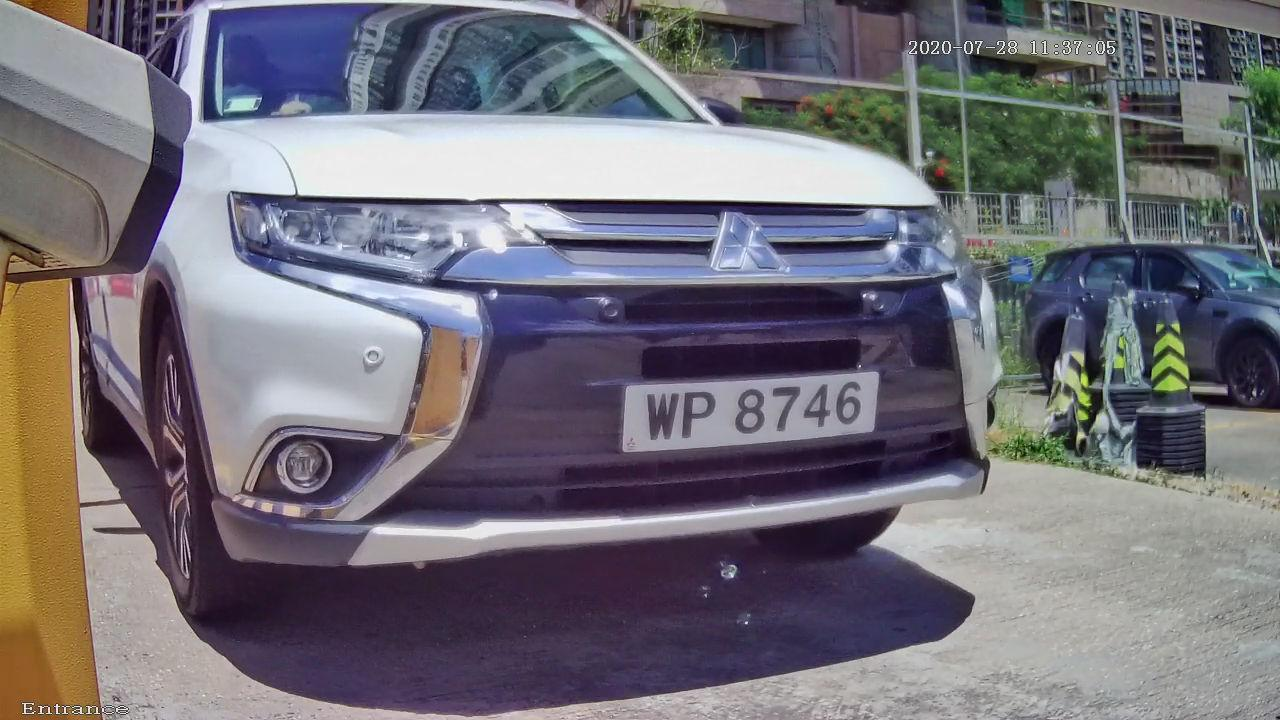privatecar: (71, 1, 1024, 647)
